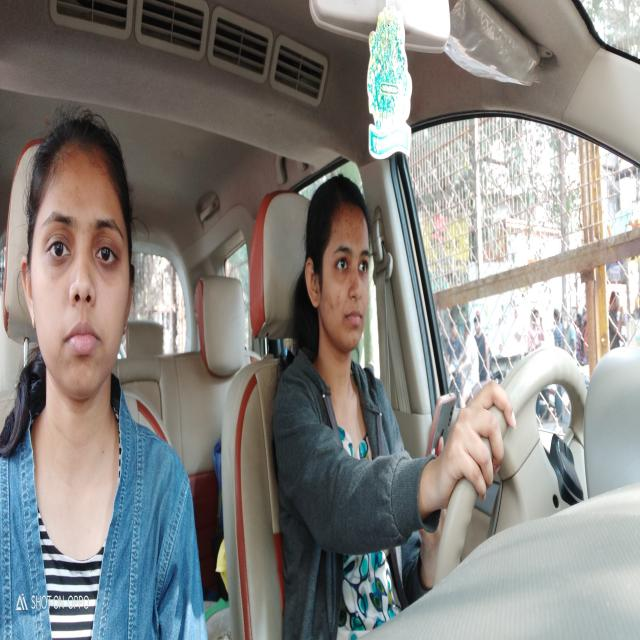mobile: (436, 380, 456, 458)
person: (22, 130, 137, 397), (304, 177, 370, 356)
